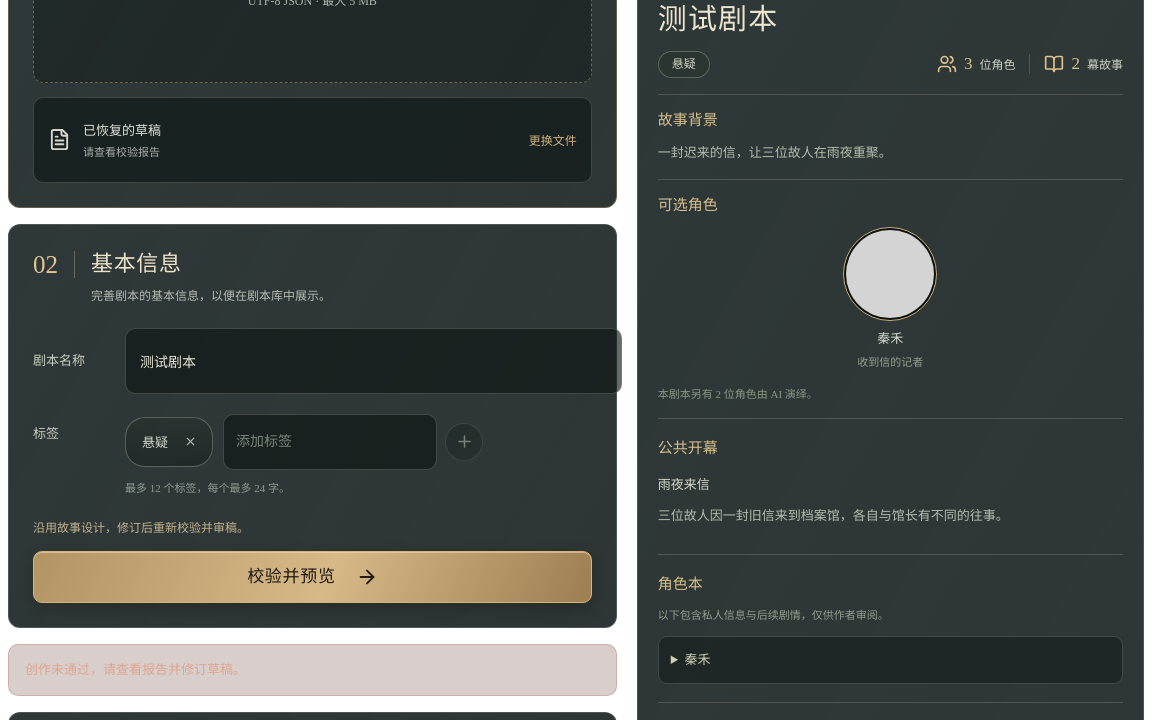
Test: ScriptCreatorView › retains the failed AI review source after changing only its title
The width and height of the screenshot is (1152, 720).
(page scrolled)
Replace the text in the field labelled "剧本名称" with "改名后的故事" at (373, 361), box 125,328 -> 622,394
(page scrolled)
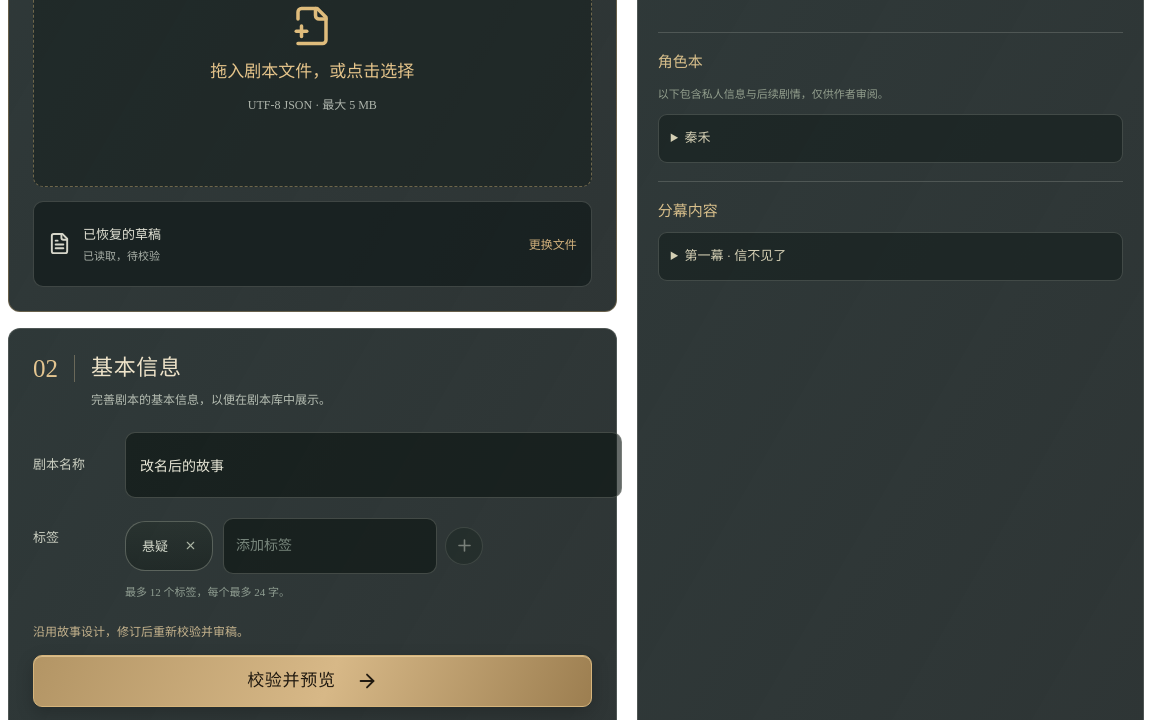
Expected: the text "沿用故事设计，修订后重新校验并审稿。" is shown, 33,624 -> 249,638
Submit the form
(page scrolled)
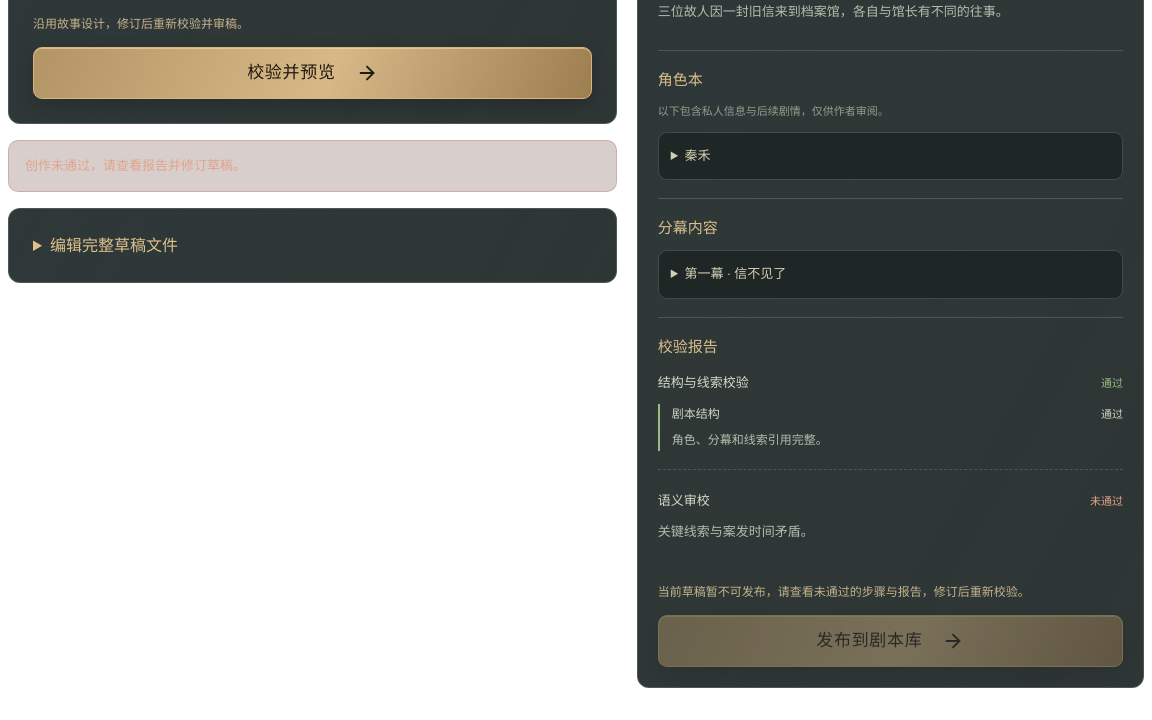
Expected: the button "发布到剧本库" is disabled, 658,615 -> 1123,667
Expected: the element showing "校验报告 结构与线索校验 通过 剧本结构 通过 角色、分幕和线索引用完整。 语义审校 未通过 关键线索与案发时间矛盾。" is shown, 658,316 -> 1123,570
